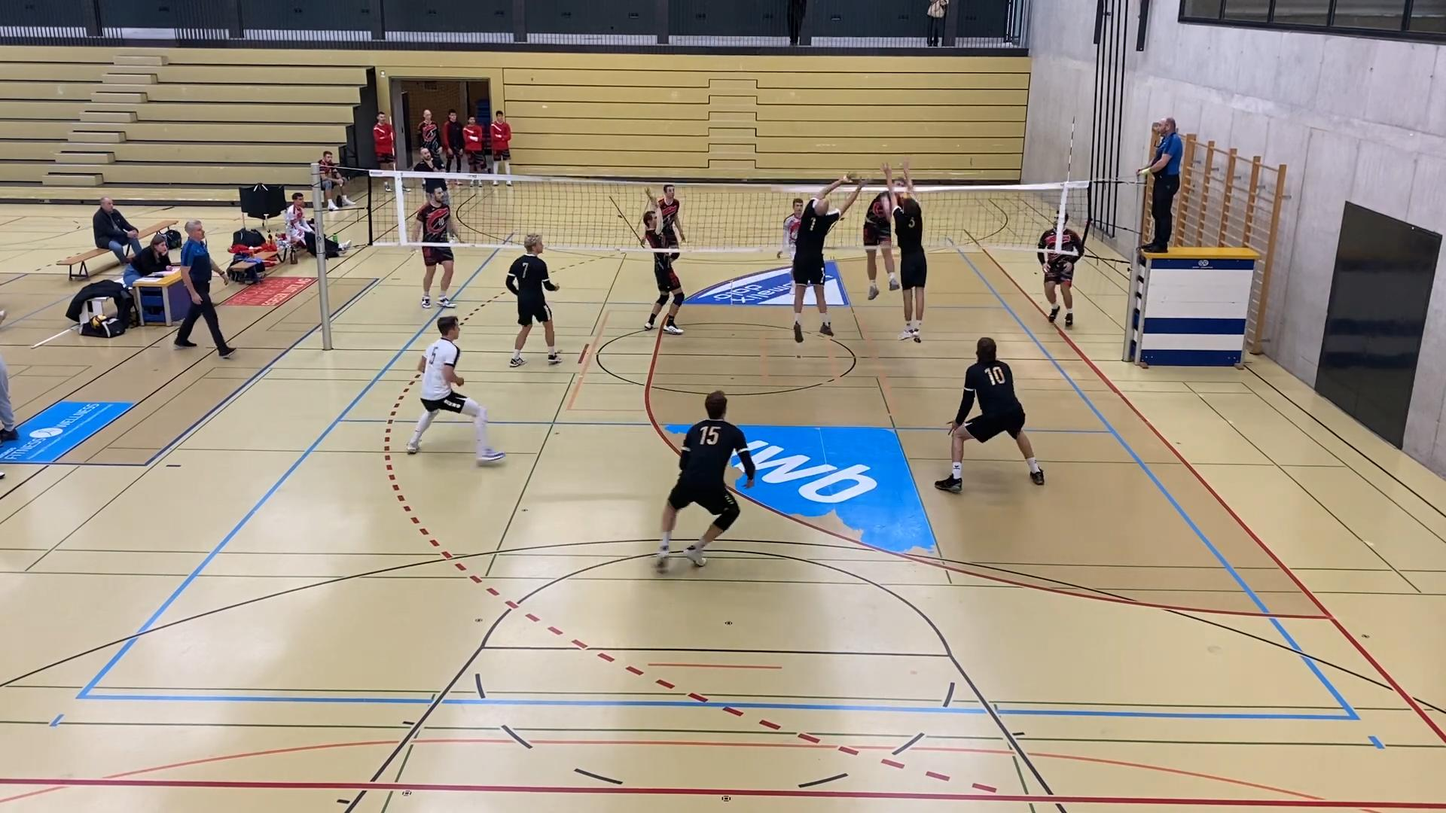attacco: (864, 168, 903, 304)
muro: (781, 171, 872, 349), (882, 160, 927, 346)
